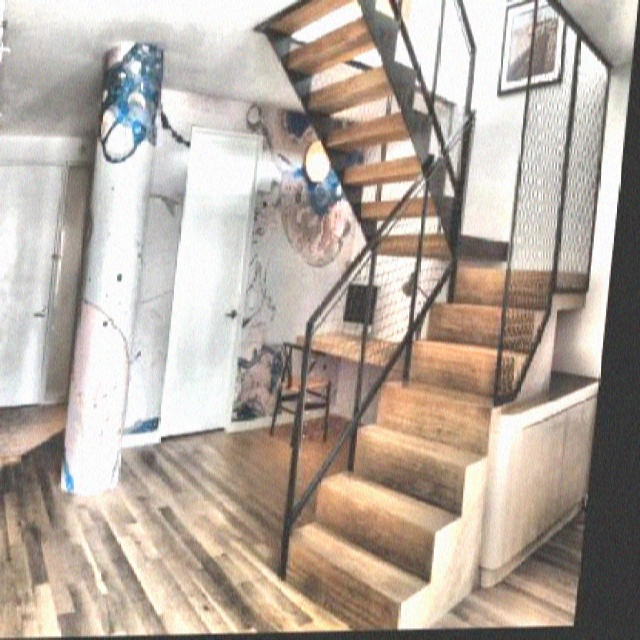stair: (321, 249, 535, 632)
